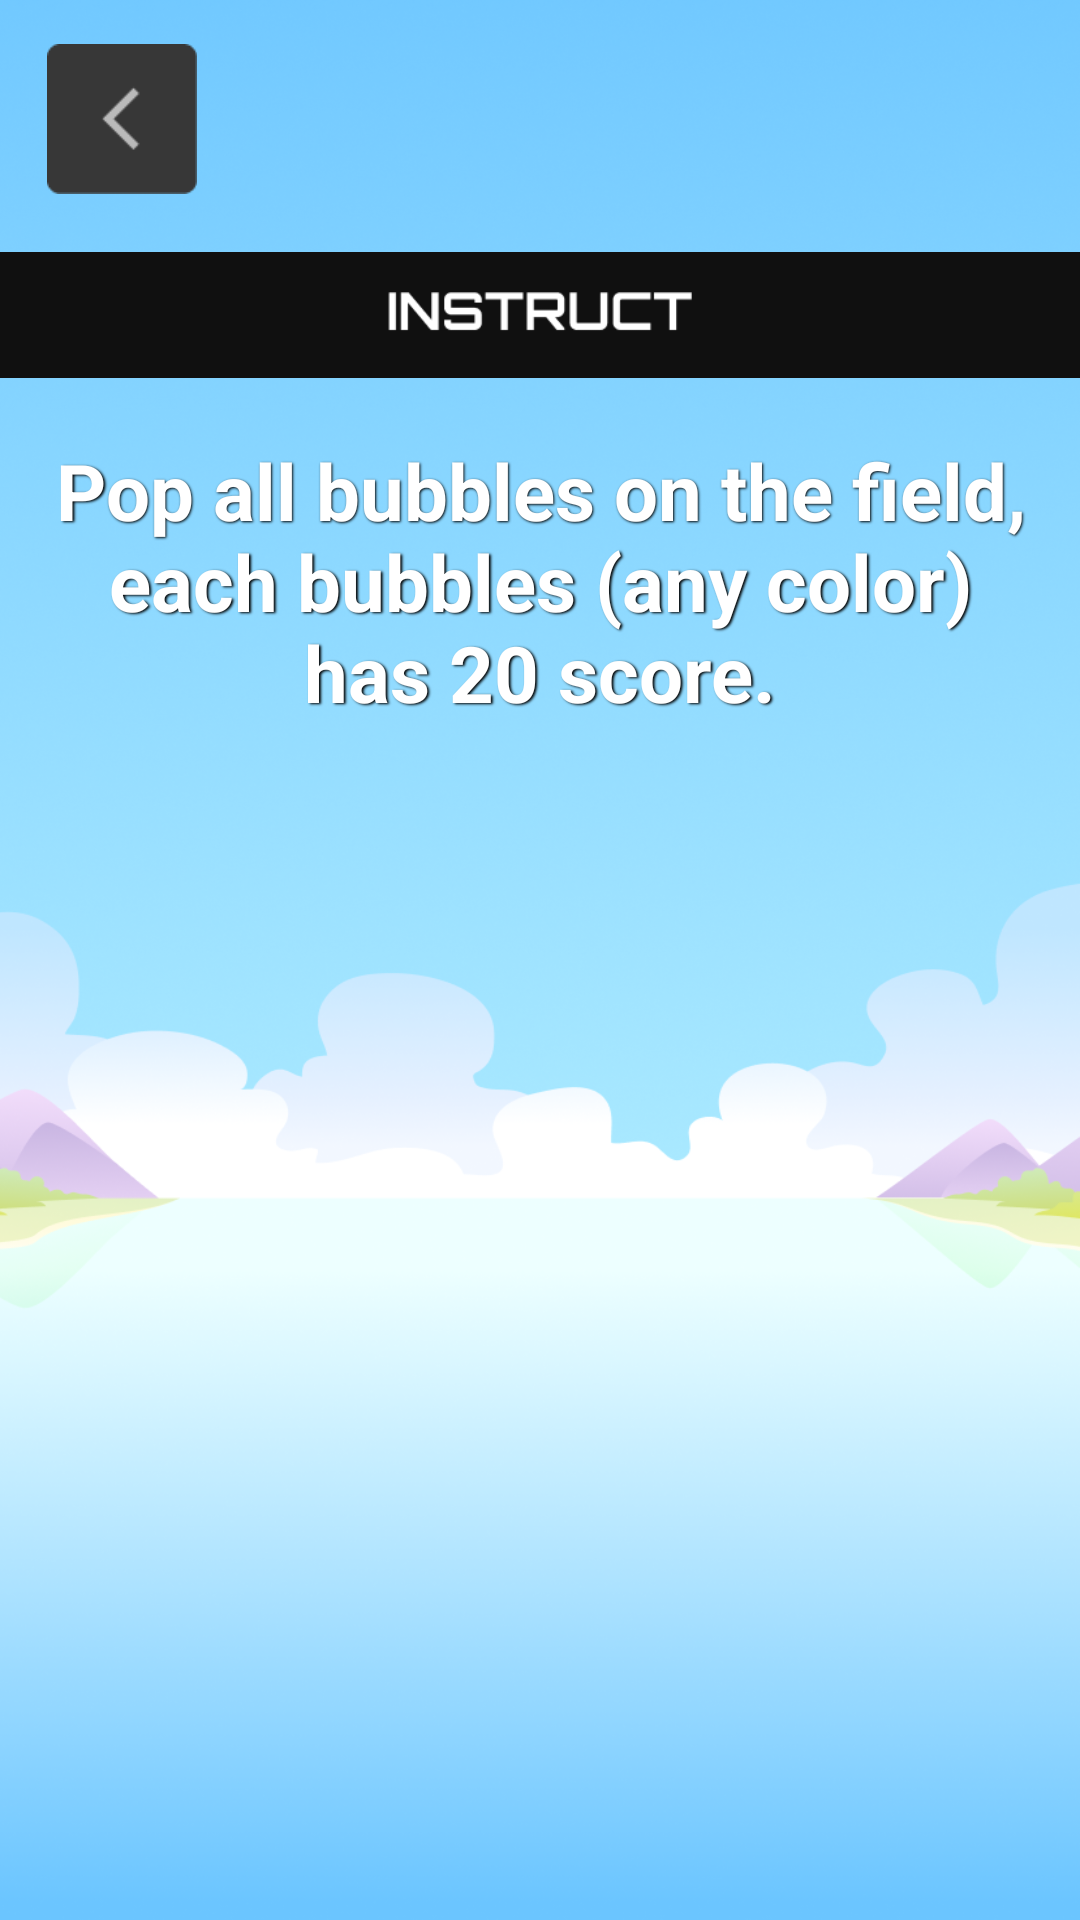

Named icons in this screenshot (1080 x 1920) and their centers, [x,y]:
back: [122,119]
